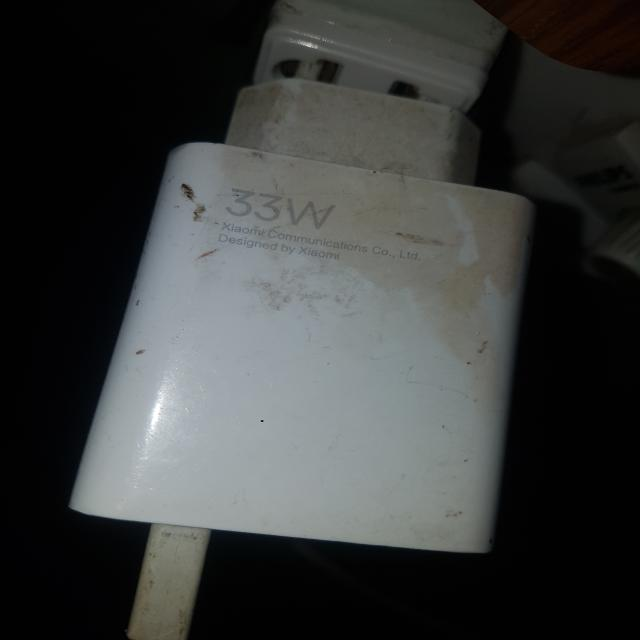electronic: (103, 64, 554, 631)
